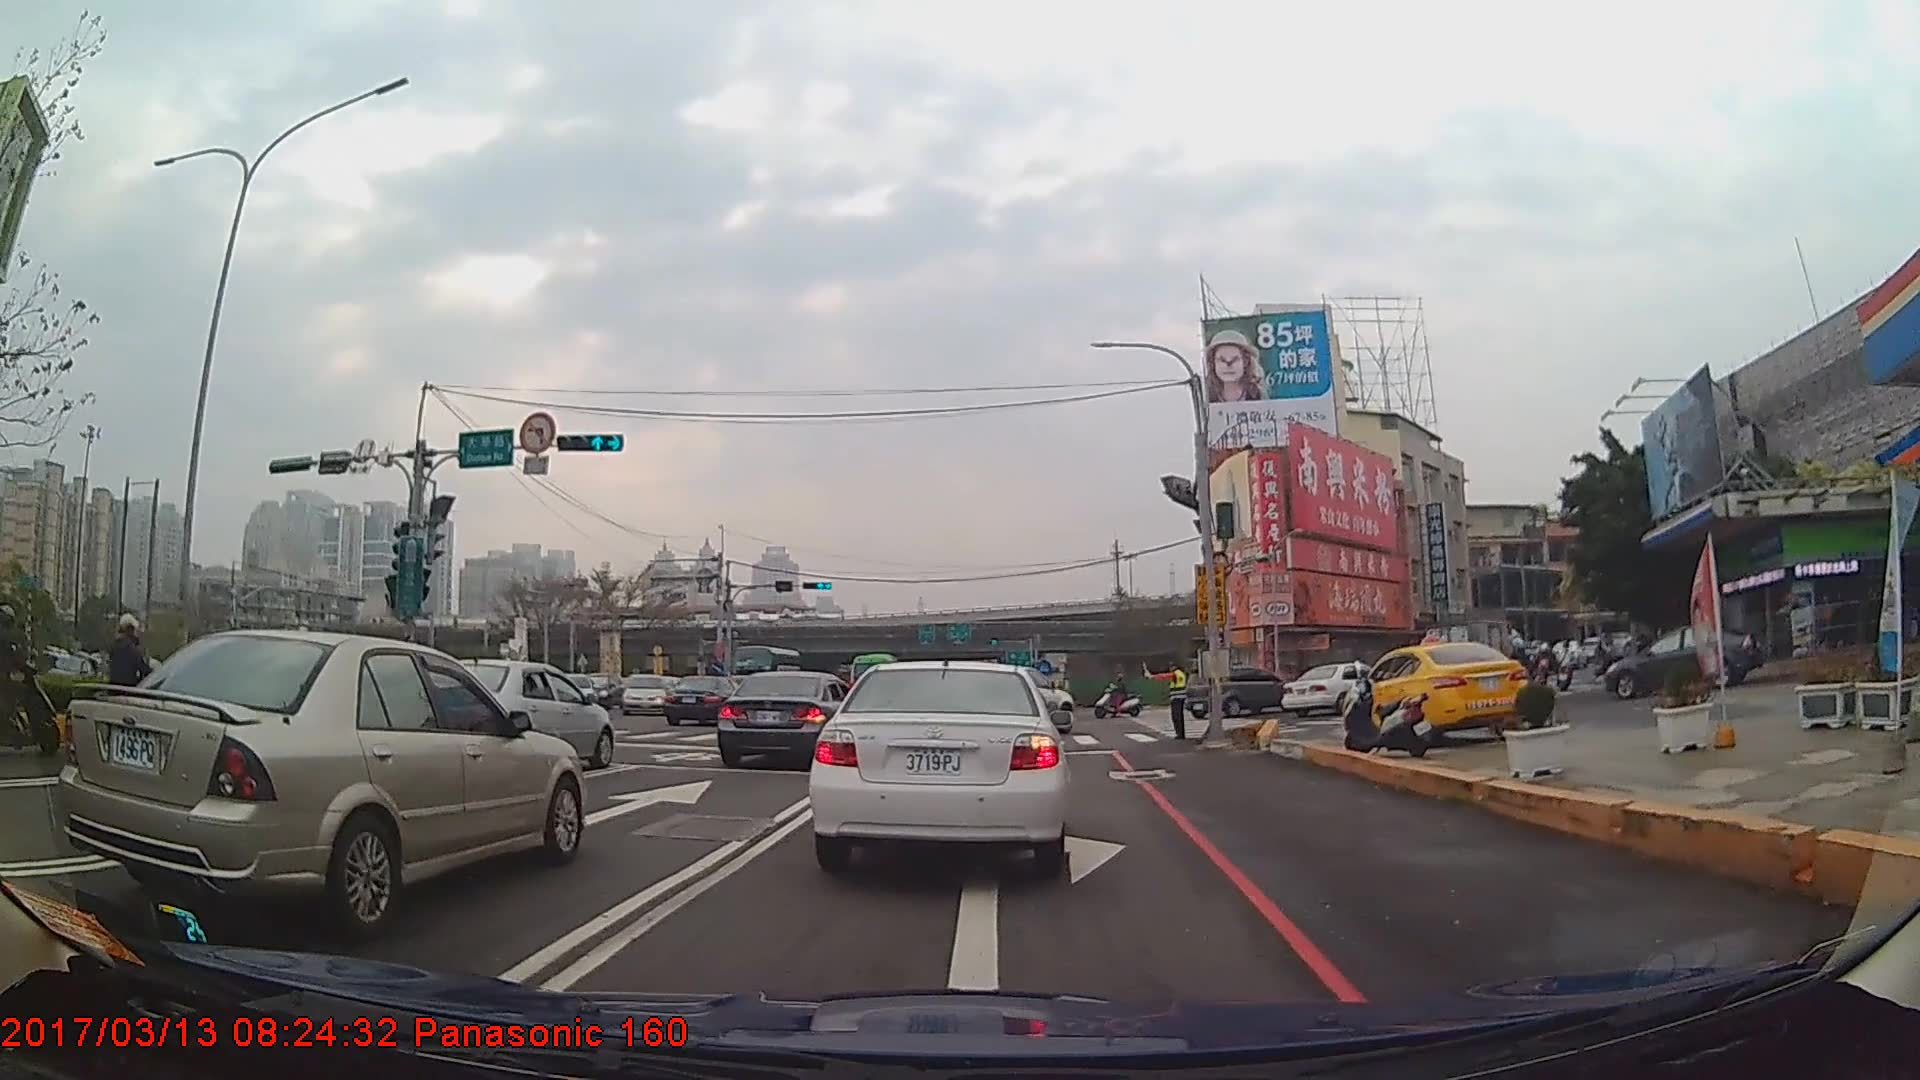pedestrian: (1137, 660, 1190, 739)
rider: (87, 616, 178, 774), (1, 604, 63, 762), (1097, 673, 1142, 721), (1529, 640, 1555, 702)
vehicle: (62, 627, 585, 932), (809, 653, 1070, 871), (422, 658, 614, 768), (1340, 639, 1532, 746), (716, 668, 860, 770), (1603, 620, 1762, 698), (1417, 619, 1528, 683), (1181, 663, 1296, 718), (1282, 662, 1386, 717), (665, 673, 756, 727), (619, 673, 664, 717)
